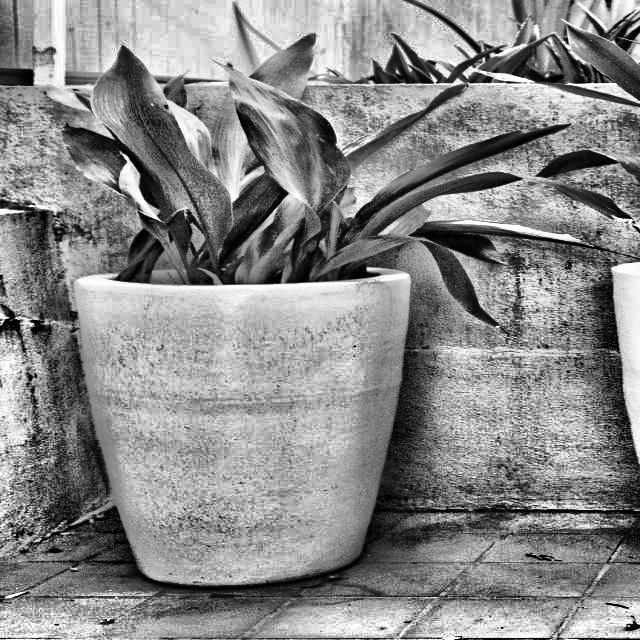plants: (49, 33, 594, 590), (414, 209, 616, 273)
